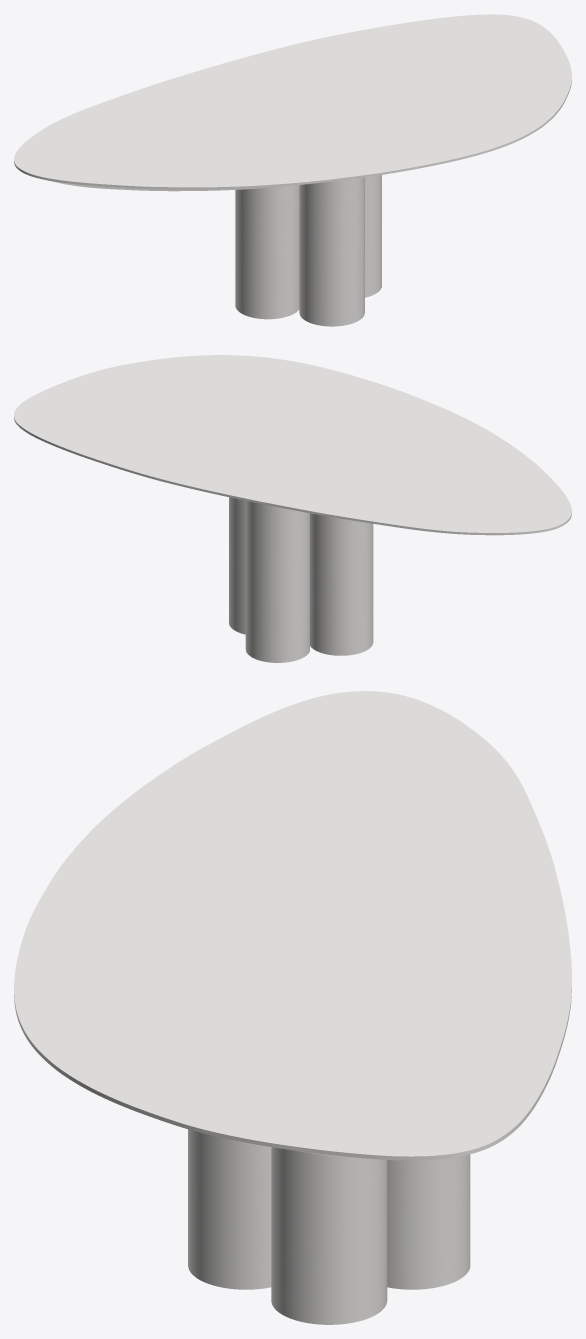
Rendered from purewhite_pebbletop_facet_secondtable.glb.
3 views of the same model, one above another, from view 1: azimuth 30°, elevation 25°; view 2: azimuth 150°, elevation 25°; view 3: azimuth 270°, elevation 25° (orthographic). The views are drawn at different scales.
Parts seen in each view (by area): view 1: facet_pebbletop, secondtable; view 2: facet_pebbletop, secondtable; view 3: facet_pebbletop, secondtable.
Boxes of the visible parts, x1,y1,x2,y2 form: facet_pebbletop: [14, 14, 571, 191]; secondtable: [235, 175, 381, 326]; facet_pebbletop: [14, 355, 571, 535]; secondtable: [229, 497, 373, 662]; facet_pebbletop: [14, 691, 571, 1160]; secondtable: [188, 1129, 470, 1324].
Size of the model in its own units: 7.5 by 2.5 by 3.8.
1 material, 1 textured.
